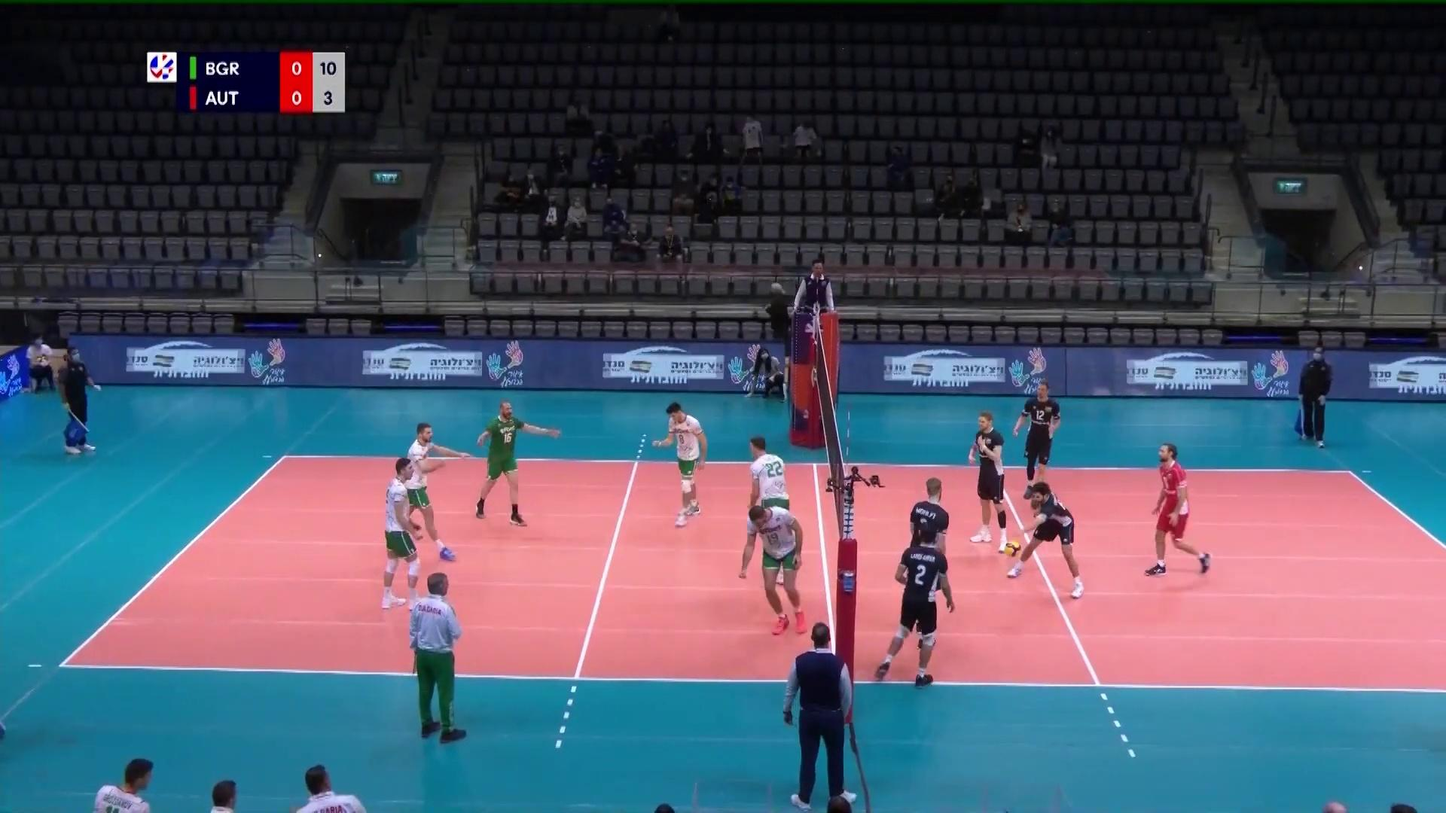ball: (1005, 541, 1021, 557)
